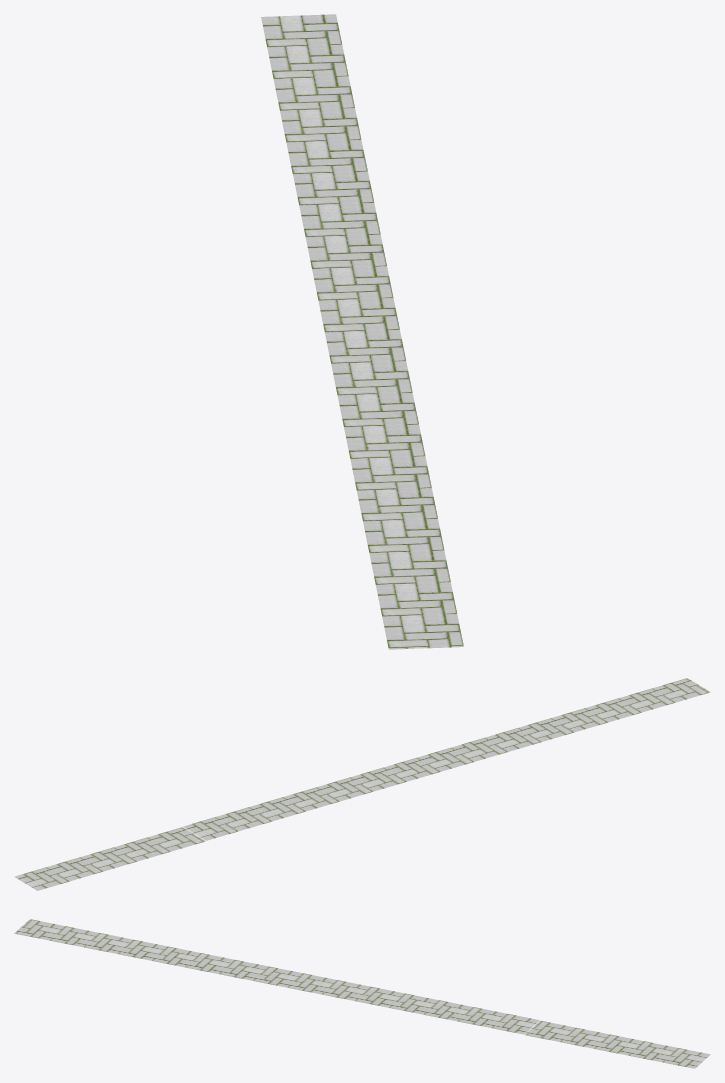
The model's file is path.obj.
The picture shows the model from 3 angles, top to bottom: view 1: azimuth 30°, elevation 25°; view 2: azimuth 150°, elevation 25°; view 3: azimuth 270°, elevation 25°; orthographic projection. The views are drawn at different scales.
Parts seen in each view (by area): view 1: Plane.015; view 2: Plane.015; view 3: Plane.015.
Part boxes in pixels (x1,y1,x2,y2): Plane.015: [261, 14, 463, 649]; Plane.015: [14, 678, 710, 890]; Plane.015: [14, 919, 710, 1068].
Bounding box in the file's own units: 93.81 × 0.1 × 185.
Materials: 20 (20 with a texture image).
